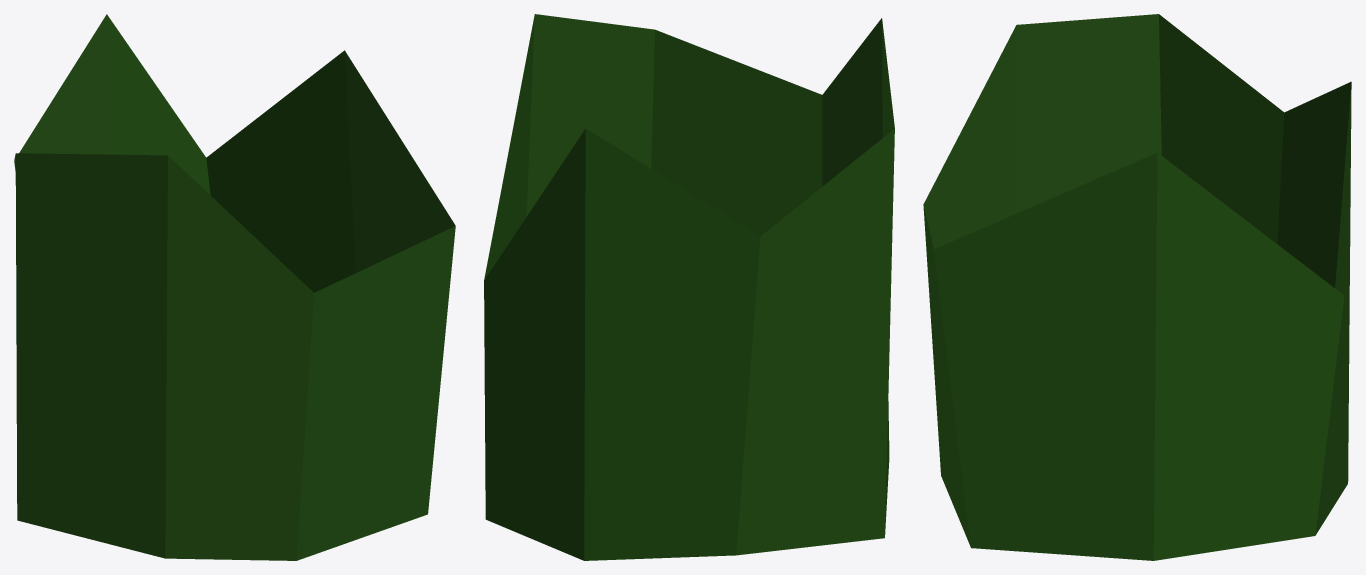
File: SceneryGrass.fbx
3 views of the same model, side by side, from view 1: azimuth 30°, elevation 25°; view 2: azimuth 150°, elevation 25°; view 3: azimuth 270°, elevation 25° (orthographic). The views are drawn at different scales.
Parts seen in each view (by area): view 1: Grass; view 2: Grass; view 3: Grass.
Boxes of the visible parts, x1=… form: Grass: x1=14, y1=14, x2=455, y2=560; Grass: x1=484, y1=14, x2=894, y2=560; Grass: x1=923, y1=14, x2=1351, y2=560.
Size of the model in its own units: 101 by 95.22 by 105.
